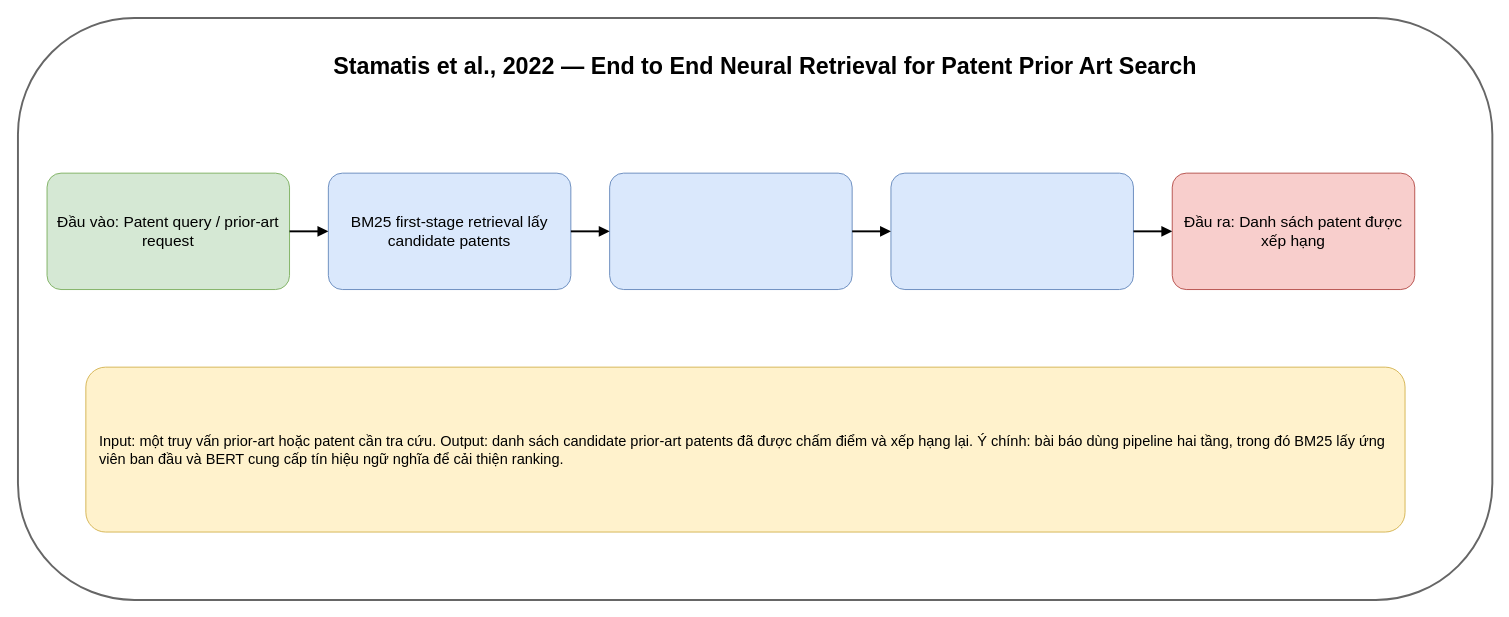
Image size: 1509x617. Some labels were removed from this diagram. The shapes that lost their labels are listed below. From the top down, each one's centre as x and y in pixels, then its label:
[730,231]: BERT-based relevance scoring
[1011,231]: Gate-based fusion: điều chỉnh điểm BM25 bằng BERT
